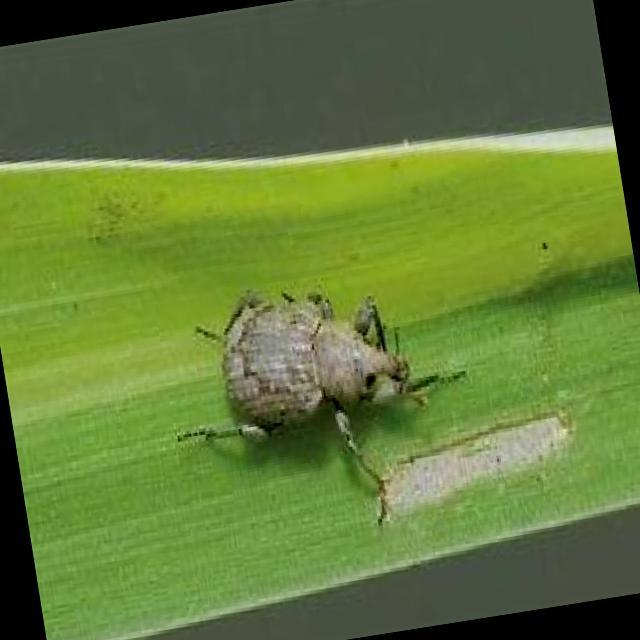ricebug: (176, 291, 466, 524)
